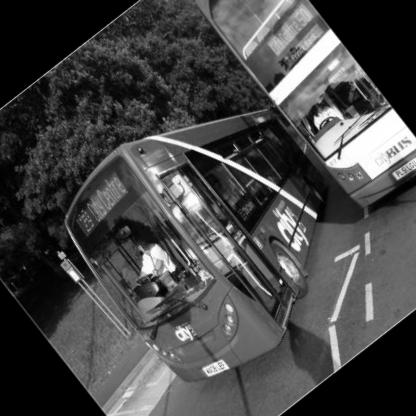bus: (6, 40, 398, 416), (158, 1, 416, 281)
